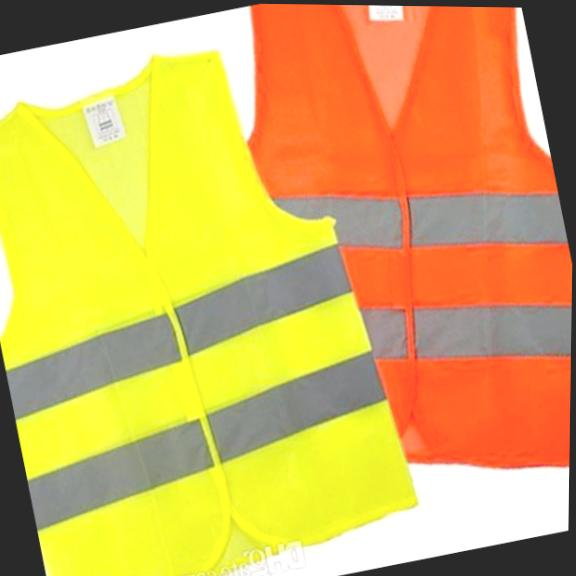safety_vest: (0, 15, 437, 576), (211, 3, 576, 529)
